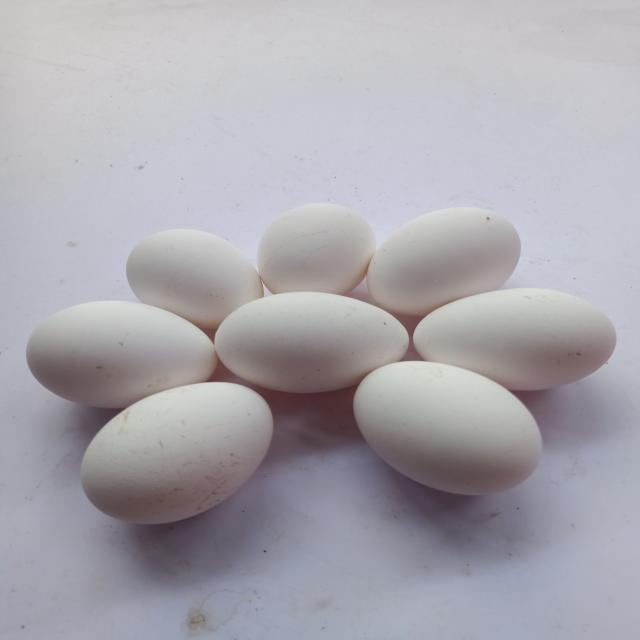Egg: (80, 383, 272, 525), (353, 361, 542, 496), (413, 288, 617, 391), (25, 301, 217, 408), (214, 292, 409, 393), (366, 207, 521, 316), (125, 229, 262, 329), (257, 203, 376, 295), (209, 266, 210, 267)
Eggplant: (447, 419, 450, 422)
